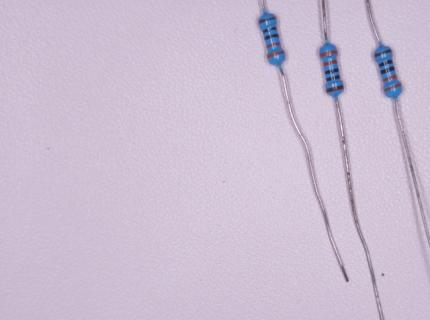Orange band: (383, 83, 402, 92), (267, 50, 285, 59), (323, 59, 339, 67), (320, 50, 338, 57), (267, 42, 281, 49), (383, 75, 398, 81)
